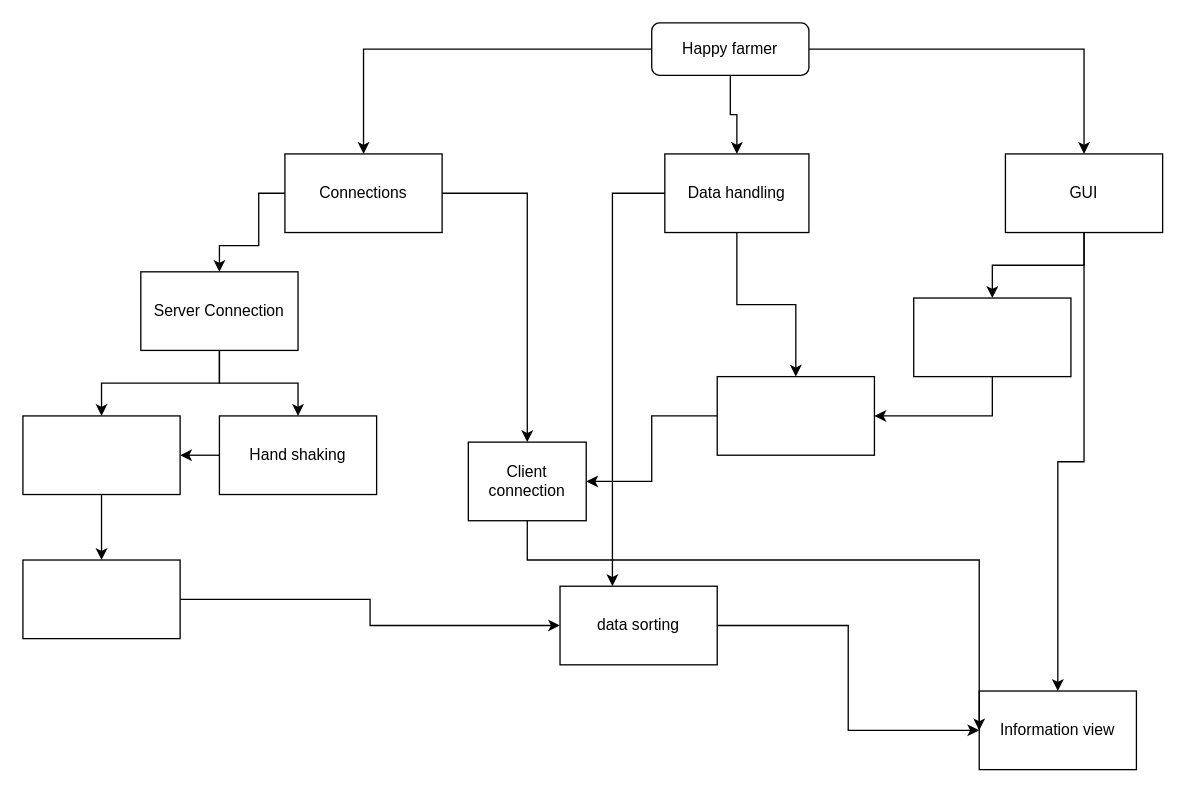
This 1186x793 diagram has some shape labels left out. Each missing label, with the centre of its shape:
"Client log in screen" belongs at point 991,337.
"Client log on info" belongs at point 795,415.
"data collection" belongs at point 101,599.
"Weather Station Connection" belongs at point 101,455.
